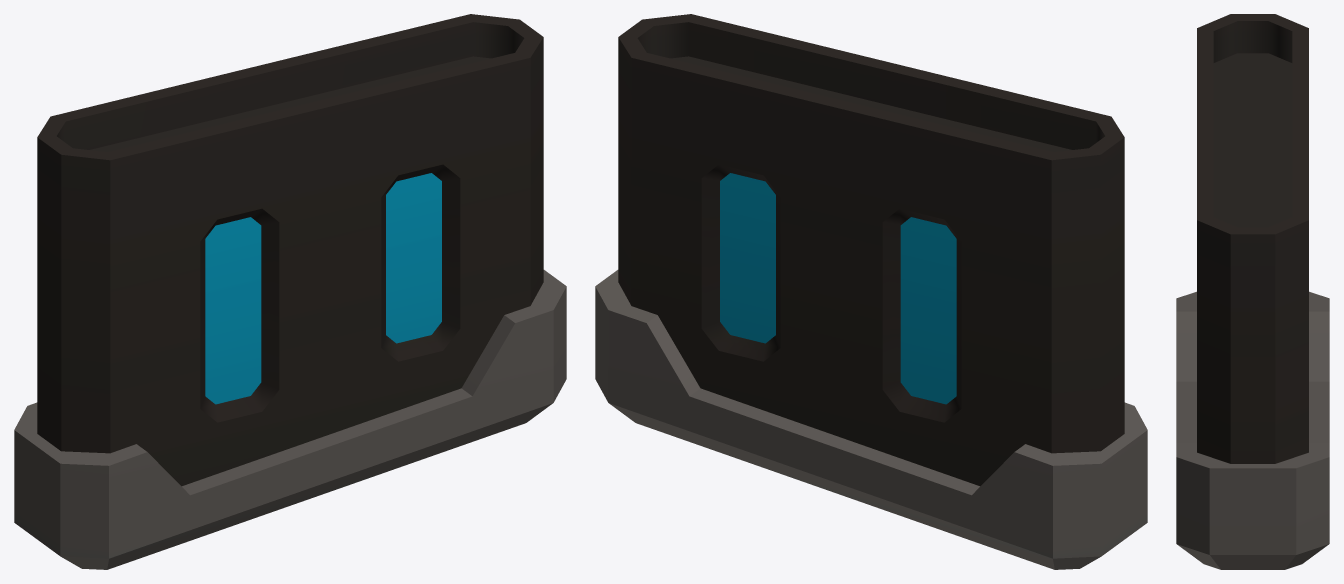
The model's file is SR2_Magazine.fbx.
3 views of the same model, side by side, from view 1: azimuth 30°, elevation 25°; view 2: azimuth 150°, elevation 25°; view 3: azimuth 270°, elevation 25° (orthographic). The views are drawn at different scales.
Visible parts, largest first — view 1: SR2_Magazine; view 2: SR2_Magazine; view 3: SR2_Magazine.
Part boxes in pixels (bbox=[...]): SR2_Magazine: bbox=[14, 14, 566, 569]; SR2_Magazine: bbox=[595, 14, 1147, 569]; SR2_Magazine: bbox=[1176, 14, 1329, 569].
Bounding box in the file's own units: 10.94 × 8.55 × 3.06.
